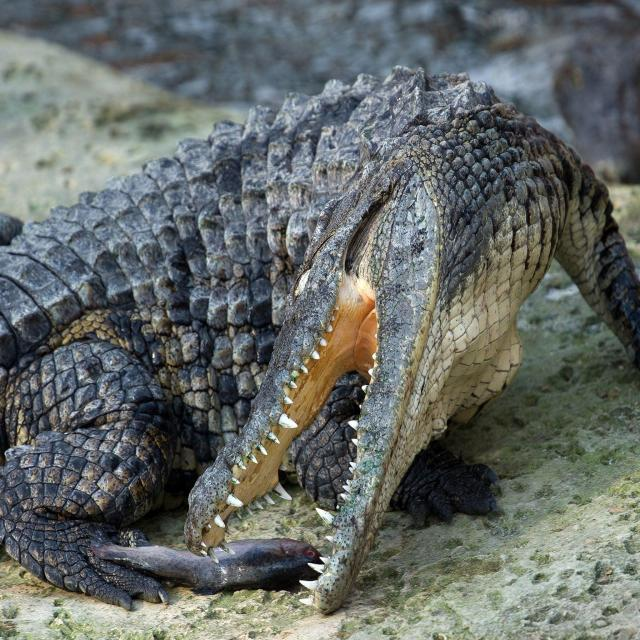crocodile: (0, 49, 640, 625)
